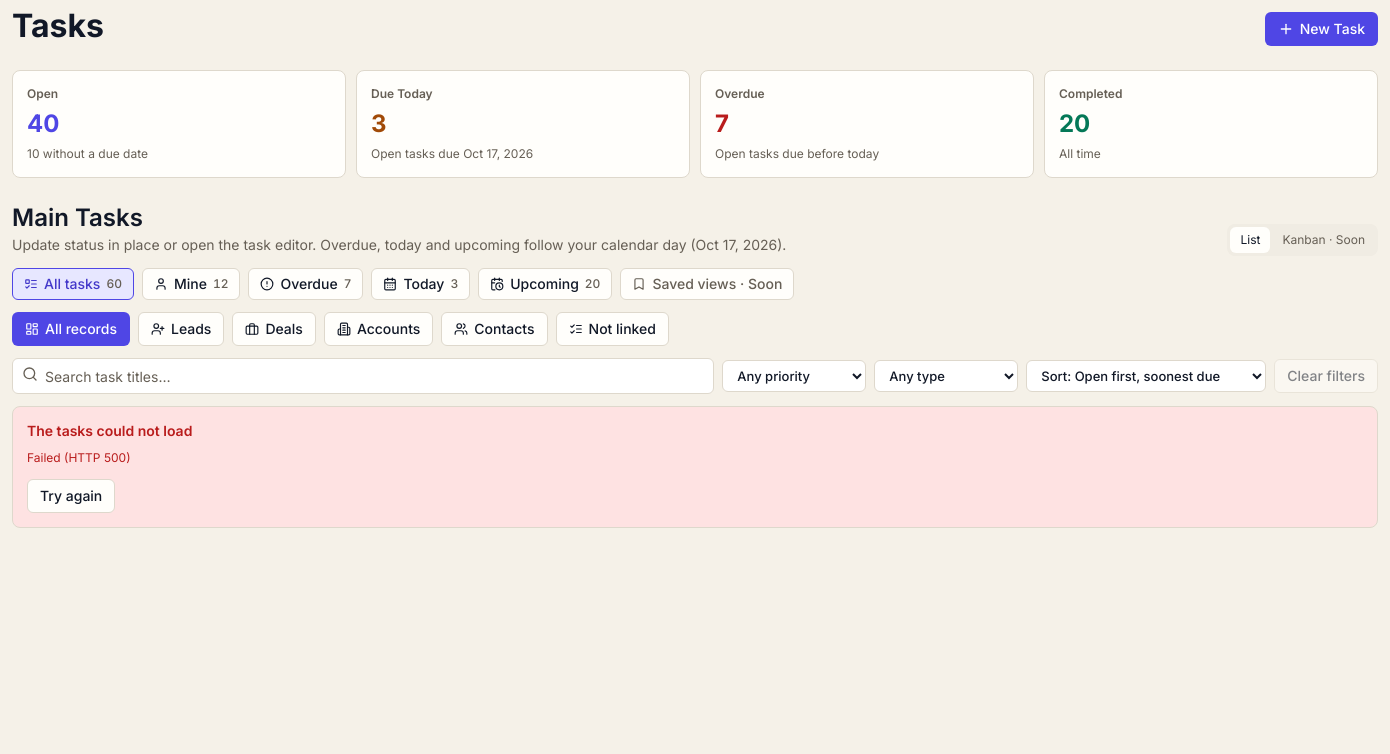
Test: Tasks — one server page, server counts › a failed list load is an error with a retry, never an empty tab
expect the text "The tasks could not load" is shown: met, box [27,421,192,441]
Click the button "Try again" at x=71, y=496, box [27,479,115,513]
(page scrolled)
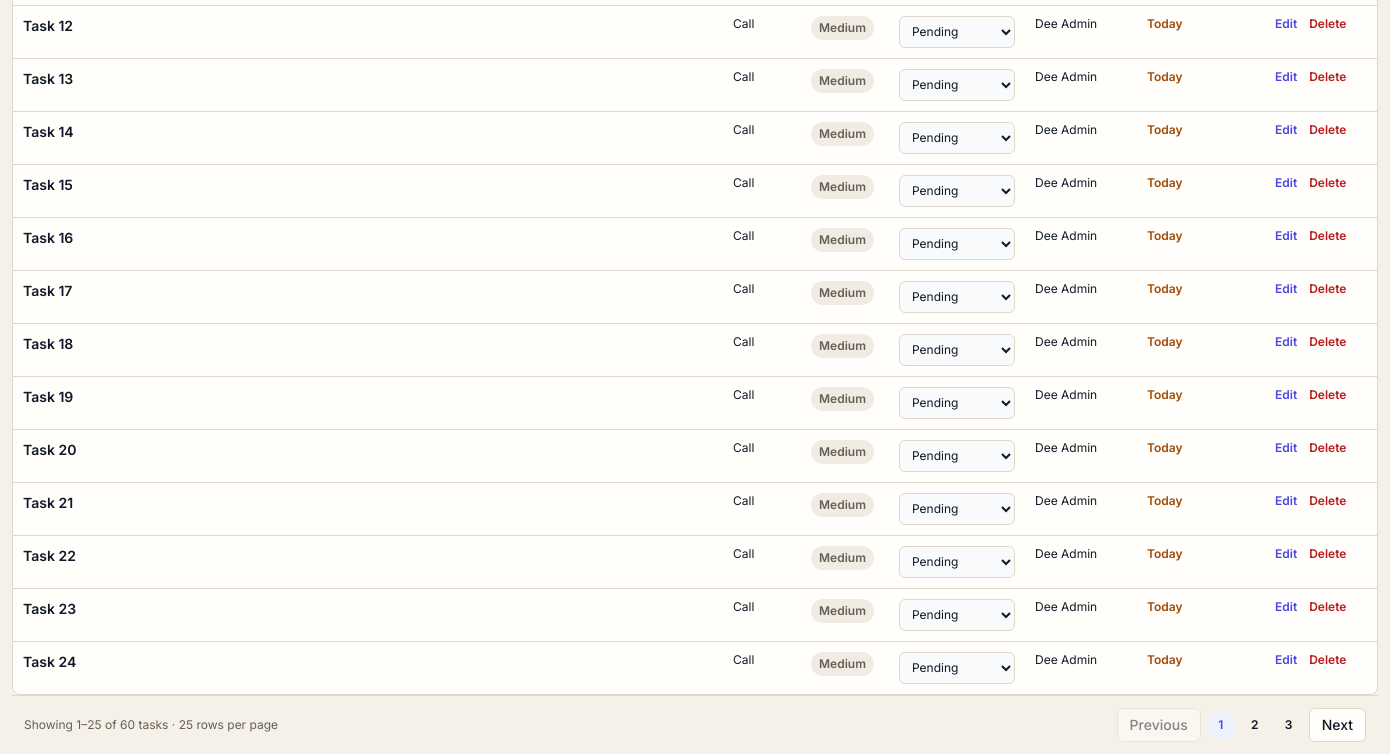
expect the text "Showing 1–25 of 60 tasks · 25 rows per page" is shown: met, box [24,716,278,732]
